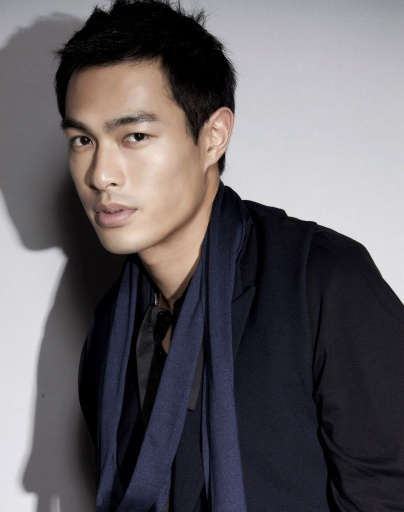male: (40, 6, 255, 272)
